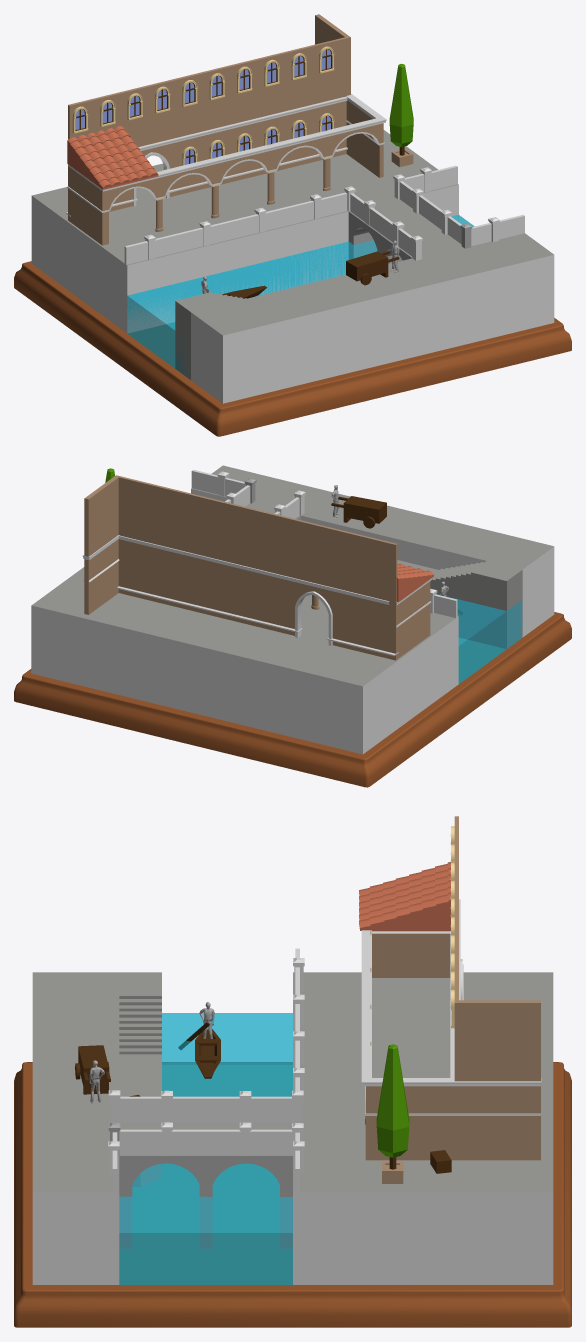
Rendered from huis 1.FBX.
3 views of the same model, one above another, from view 1: azimuth 30°, elevation 25°; view 2: azimuth 150°, elevation 25°; view 3: azimuth 270°, elevation 25° (orthographic). The views are drawn at different scales.
Parts seen in each view (by area): view 1: Component_76_1, Component_73_1, Object001, Component_72_1, Component_74_1, Cylinder001, Object016, Component_79_1, Component_95_1, Component_89_1, Component_79_2, Component_80_8 (+9 smaller); view 2: Component_73_1, Object001, Component_72_1, Component_76_1, Component_95_1, Component_74_1, Object016, Component_98_1, Component_96_1, Cylinder001, Component_80_3, Object018 (+2 smaller); view 3: Component_73_1, Component_72_1, Component_74_1, Component_76_1, Object001, Cylinder001, Component_79_2, Component_79_1, Component_95_1, Object016, Component_89_1, Component_96_1 (+6 smaller).
Part boxes in pixels (left/top/right/bottom): Component_76_1: left=191, top=233, right=554, bottom=403; Component_73_1: left=31, top=130, right=458, bottom=333; Object001: left=67, top=14, right=384, bottom=245; Component_72_1: left=14, top=261, right=571, bottom=436; Component_74_1: left=127, top=214, right=474, bottom=376; Cylinder001: left=67, top=126, right=158, bottom=189; Object016: left=68, top=93, right=386, bottom=191; Component_79_1: left=348, top=199, right=431, bottom=259; Component_95_1: left=175, top=292, right=226, bottom=379; Component_89_1: left=389, top=63, right=413, bottom=147; Component_79_2: left=380, top=222, right=461, bottom=263; Component_80_8: left=124, top=233, right=181, bottom=264; Component_73_1: left=31, top=567, right=458, bottom=754; Object001: left=83, top=475, right=431, bottom=660; Component_72_1: left=14, top=612, right=571, bottom=787; Component_76_1: left=191, top=465, right=554, bottom=637; Component_95_1: left=397, top=560, right=522, bottom=648; Component_74_1: left=436, top=594, right=522, bottom=683; Object016: left=82, top=535, right=431, bottom=605; Component_98_1: left=343, top=496, right=386, bottom=523; Component_96_1: left=430, top=562, right=483, bottom=592; Cylinder001: left=396, top=563, right=433, bottom=602; Component_80_3: left=191, top=469, right=245, bottom=496; Object018: left=117, top=586, right=302, bottom=632; Component_73_1: left=293, top=972, right=553, bottom=1284; Component_72_1: left=14, top=1062, right=571, bottom=1327; Component_74_1: left=119, top=1013, right=292, bottom=1284; Component_76_1: left=32, top=972, right=119, bottom=1284; Object001: left=365, top=816, right=540, bottom=1160; Cylinder001: left=359, top=862, right=450, bottom=930; Component_79_2: left=119, top=1122, right=206, bottom=1248; Component_79_1: left=206, top=1122, right=292, bottom=1248; Component_95_1: left=119, top=972, right=161, bottom=1186; Object016: left=361, top=899, right=541, bottom=1086; Component_89_1: left=376, top=1044, right=409, bottom=1157; Component_96_1: left=119, top=999, right=161, bottom=1056.
Bounding box in the file's own units: 132 × 74.41 × 132.
